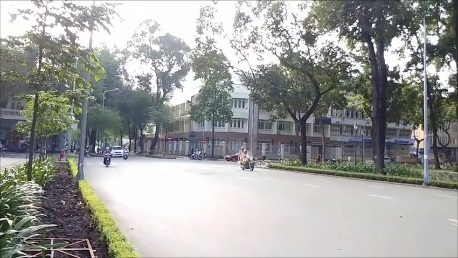police: (235, 145, 259, 174)
